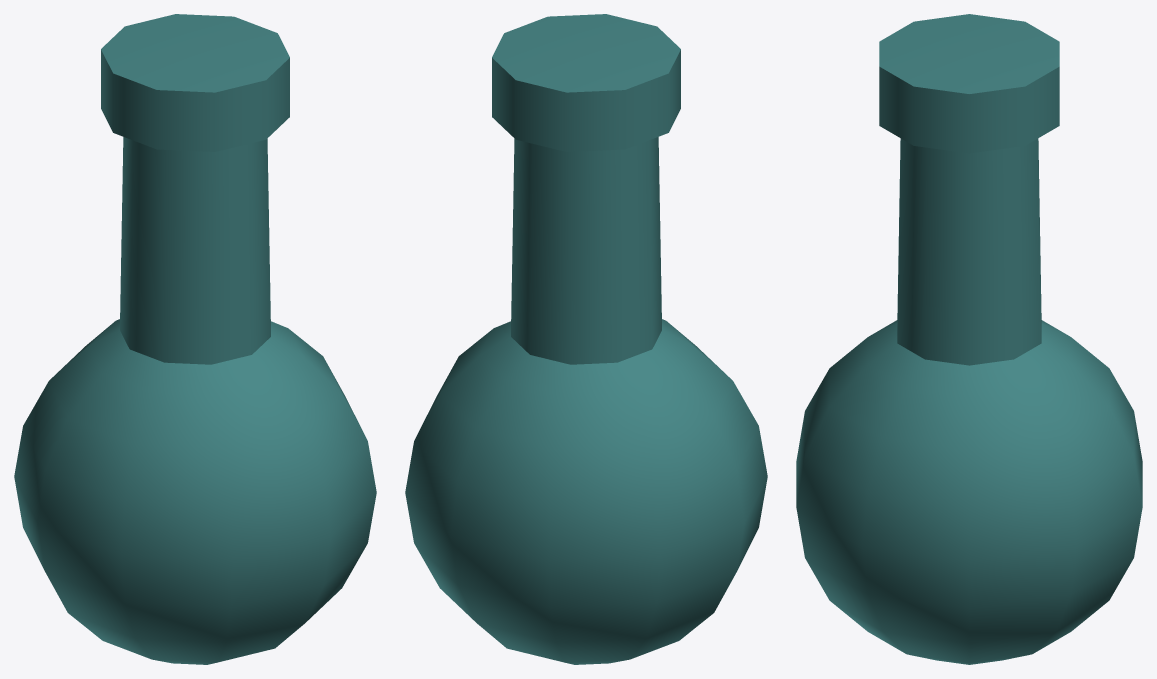
Rendered from Blub1.fbx.
3 views of the same model, side by side, from view 1: azimuth 30°, elevation 25°; view 2: azimuth 150°, elevation 25°; view 3: azimuth 270°, elevation 25° (orthographic).
Visible parts, largest first — view 1: pSphere3; view 2: pSphere3; view 3: pSphere3.
Part boxes in pixels (x1,y1,x2,y2): pSphere3: (14, 14, 376, 664); pSphere3: (405, 14, 767, 664); pSphere3: (796, 14, 1142, 664).
Bounding box in the file's own units: 10 × 9.51 × 17.91.
